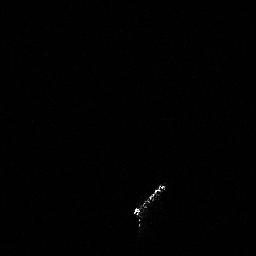ship: (134, 183, 168, 234)
